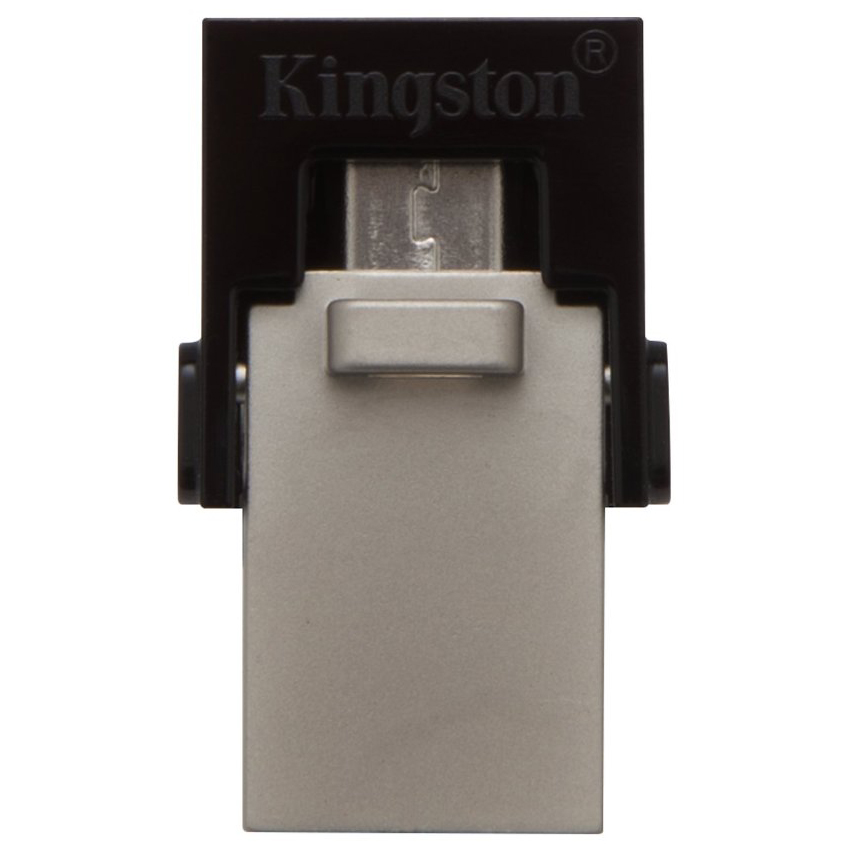Kingston: (236, 24, 629, 147)
